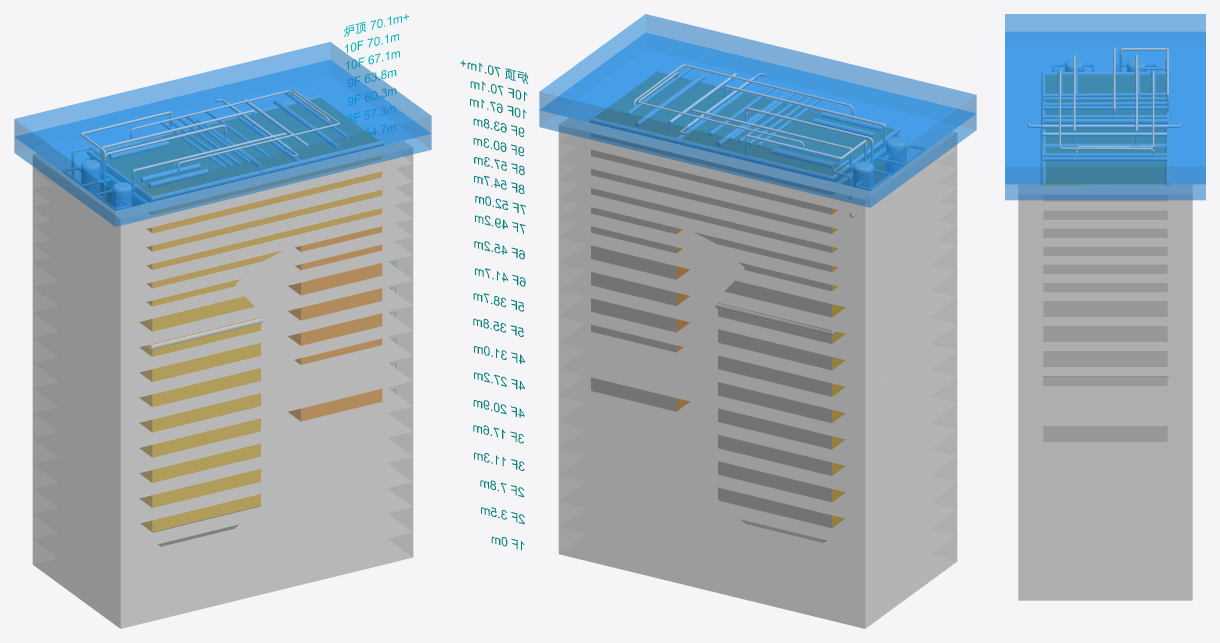
3 renders of one model, left to right at view 1: azimuth 30°, elevation 25°; view 2: azimuth 150°, elevation 25°; view 3: azimuth 270°, elevation 25°, orthographic. The views are drawn at different scales.
Parts seen in each view (by area): view 1: 楼层-10-2, 楼层-10-1, 楼层-2-1, 楼层-3-2, 楼层-4-3, 楼层-4-1, 楼层-6-2, 水平烟道, 水冷壁, 楼层-7-2, 楼层-8-2, 楼层-8-1 (+20 smaller); view 2: 楼层-10-2, 楼层-10-1, 楼层-2-1, 楼层-3-2, 楼层-4-3, 楼层-4-1, 楼层-6-2, 水平烟道, 水冷壁, 楼层-4-2, 楼层-7-2, 楼层-8-1 (+19 smaller); view 3: 楼层-10-2, 楼层-10-1, 水平烟道, 尾部烟道, 楼层-2-1, 楼层-3-2, 楼层-4-3, 楼层-4-2, 楼层-4-1, 楼层-6-2, 楼层-8-2, 楼层-7-2 (+23 smaller).
Part boxes in pixels (x1=…): 楼层-10-2: x1=14, y1=42, x2=431, y2=210; 楼层-10-1: x1=14, y1=60, x2=431, y2=226; 楼层-2-1: x1=32, y1=488, x2=413, y2=603; 楼层-3-2: x1=32, y1=413, x2=413, y2=527; 楼层-4-3: x1=32, y1=337, x2=413, y2=452; 楼层-4-1: x1=32, y1=387, x2=413, y2=502; 楼层-6-2: x1=32, y1=241, x2=413, y2=351; 水平烟道: x1=90, y1=98, x2=382, y2=303; 水冷壁: x1=139, y1=283, x2=260, y2=546; 楼层-7-2: x1=32, y1=205, x2=413, y2=308; 楼层-8-2: x1=32, y1=168, x2=413, y2=271; 楼层-8-1: x1=32, y1=187, x2=413, y2=289; 楼层-10-2: x1=539, y1=14, x2=976, y2=190; 楼层-10-1: x1=539, y1=33, x2=976, y2=207; 楼层-2-1: x1=558, y1=482, x2=957, y2=602; 楼层-3-2: x1=558, y1=402, x2=957, y2=523; 楼层-4-3: x1=558, y1=323, x2=957, y2=443; 楼层-4-1: x1=558, y1=376, x2=957, y2=496; 楼层-6-2: x1=558, y1=223, x2=957, y2=338; 水平烟道: x1=591, y1=73, x2=897, y2=288; 水冷壁: x1=718, y1=267, x2=845, y2=542; 楼层-4-2: x1=558, y1=356, x2=957, y2=470; 楼层-7-2: x1=558, y1=185, x2=957, y2=292; 楼层-8-1: x1=558, y1=166, x2=957, y2=273; 楼层-10-2: x1=1005, y1=14, x2=1205, y2=183; 楼层-10-1: x1=1005, y1=32, x2=1205, y2=200; 水平烟道: x1=1043, y1=75, x2=1167, y2=255; 尾部烟道: x1=1043, y1=264, x2=1167, y2=385; 楼层-2-1: x1=1018, y1=525, x2=1192, y2=575; 楼层-3-2: x1=1018, y1=450, x2=1192, y2=500; 楼层-4-3: x1=1018, y1=376, x2=1192, y2=425; 楼层-4-2: x1=1018, y1=401, x2=1192, y2=450; 楼层-4-1: x1=1018, y1=426, x2=1192, y2=475; 楼层-6-2: x1=1018, y1=283, x2=1192, y2=325; 楼层-8-2: x1=1018, y1=210, x2=1192, y2=246; 楼层-7-2: x1=1018, y1=246, x2=1192, y2=282.
Size of the model in its own units: 10213 by 11530 by 4563.
